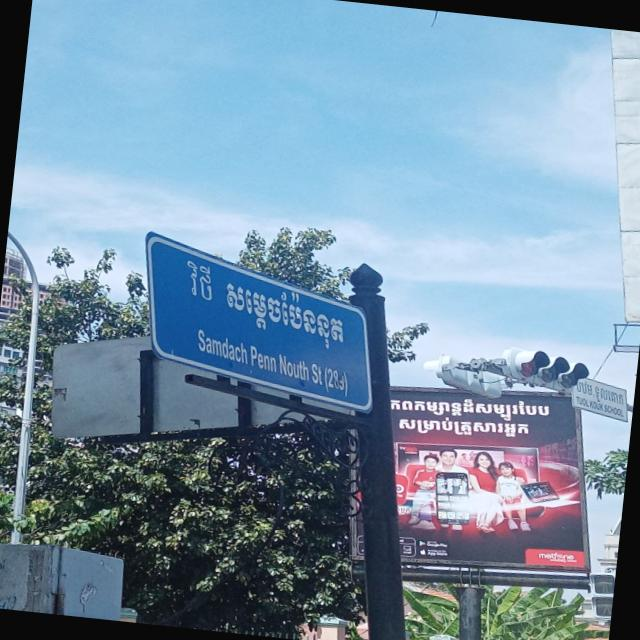1: (162, 250, 358, 360)
Yolov11_80vkh: (382, 391, 561, 424), (367, 415, 570, 440), (564, 372, 629, 409)
